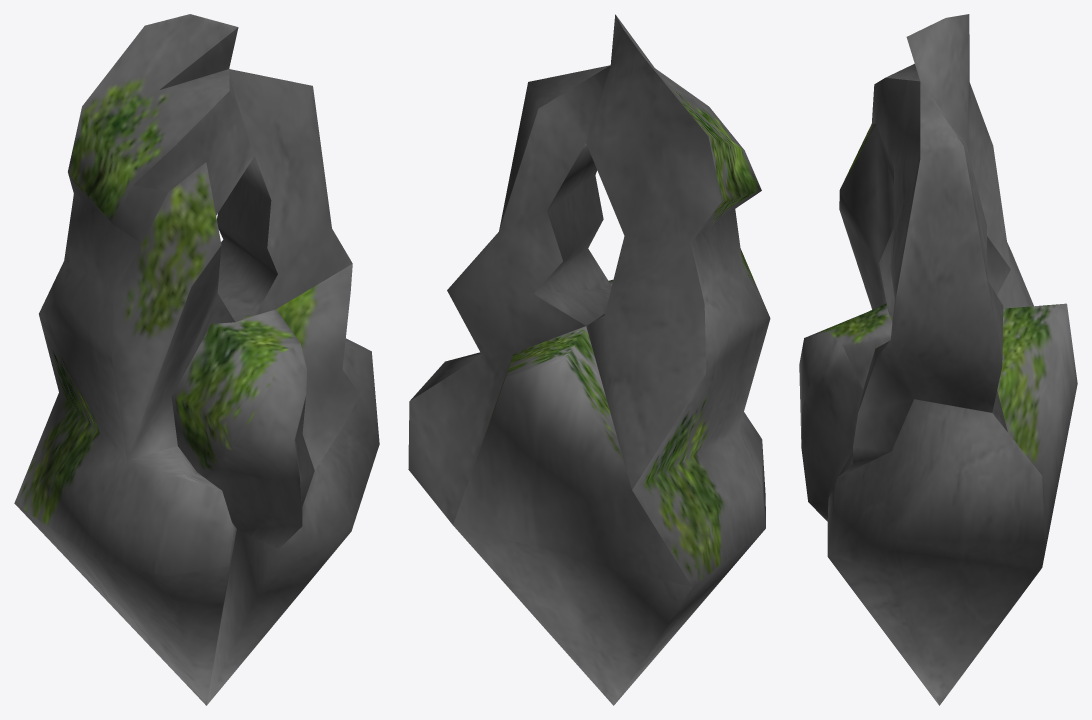
3 views of the same model, side by side, from view 1: azimuth 30°, elevation 25°; view 2: azimuth 150°, elevation 25°; view 3: azimuth 270°, elevation 25° (orthographic).
Visible parts, largest first — view 1: rock_LOD0; view 2: rock_LOD0; view 3: rock_LOD0.
Part boxes in pixels (x1,y1,x2,y2): rock_LOD0: [14, 14, 379, 705]; rock_LOD0: [408, 14, 770, 705]; rock_LOD0: [799, 14, 1077, 705].
Size of what is drawn, in the model's own units: 275 by 597 by 221.
